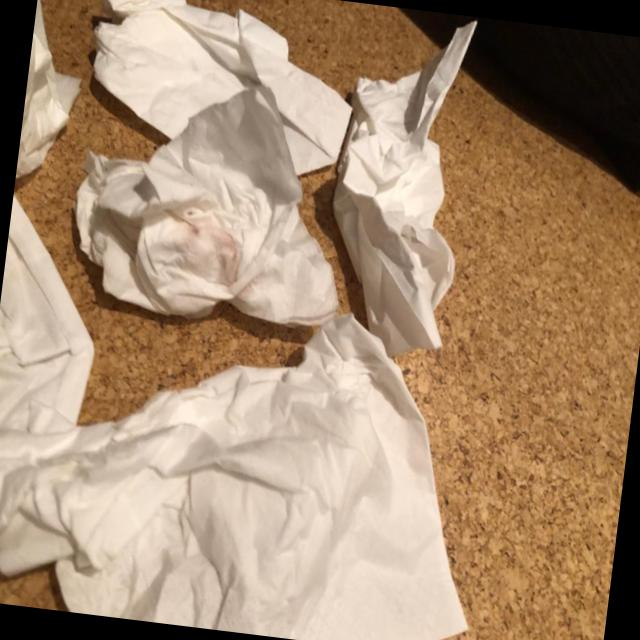organic waste: (0, 270, 509, 640), (53, 62, 373, 356), (312, 1, 488, 368), (75, 0, 364, 198), (0, 187, 117, 581), (14, 0, 92, 195)
